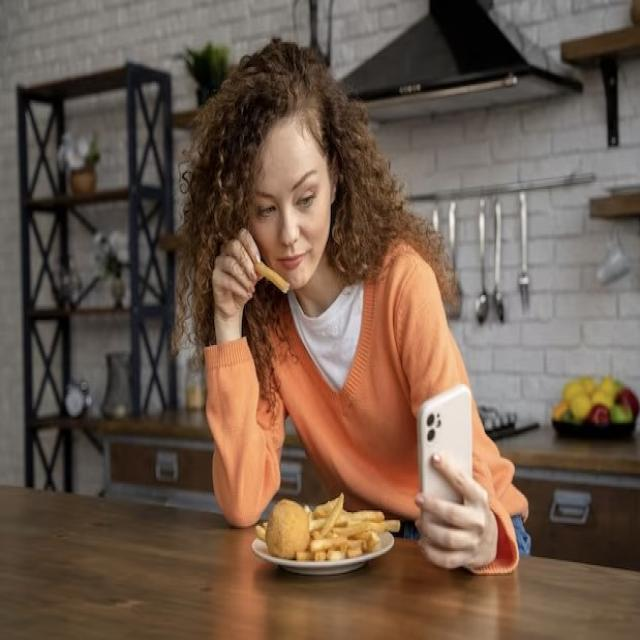eating-person: (173, 26, 540, 590)
